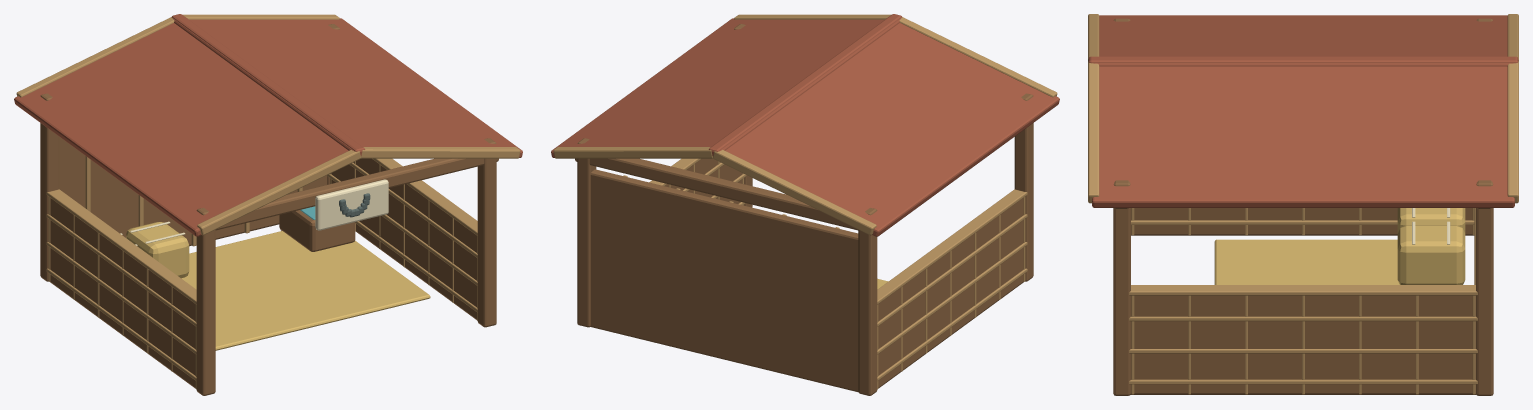
The model's file is stable.glb.
3 renders of one model, left to right at view 1: azimuth 30°, elevation 25°; view 2: azimuth 150°, elevation 25°; view 3: azimuth 270°, elevation 25°, orthographic. The views are drawn at different scales.
Parts seen in each view (by area): view 1: stable; view 2: stable; view 3: stable.
Boxes of the visible parts, x1,y1,x2,y2 form: stable: [14, 14, 522, 395]; stable: [551, 14, 1059, 395]; stable: [1088, 14, 1518, 395].
Size of the model in its own units: 6.19 by 3.96 by 6.06.
